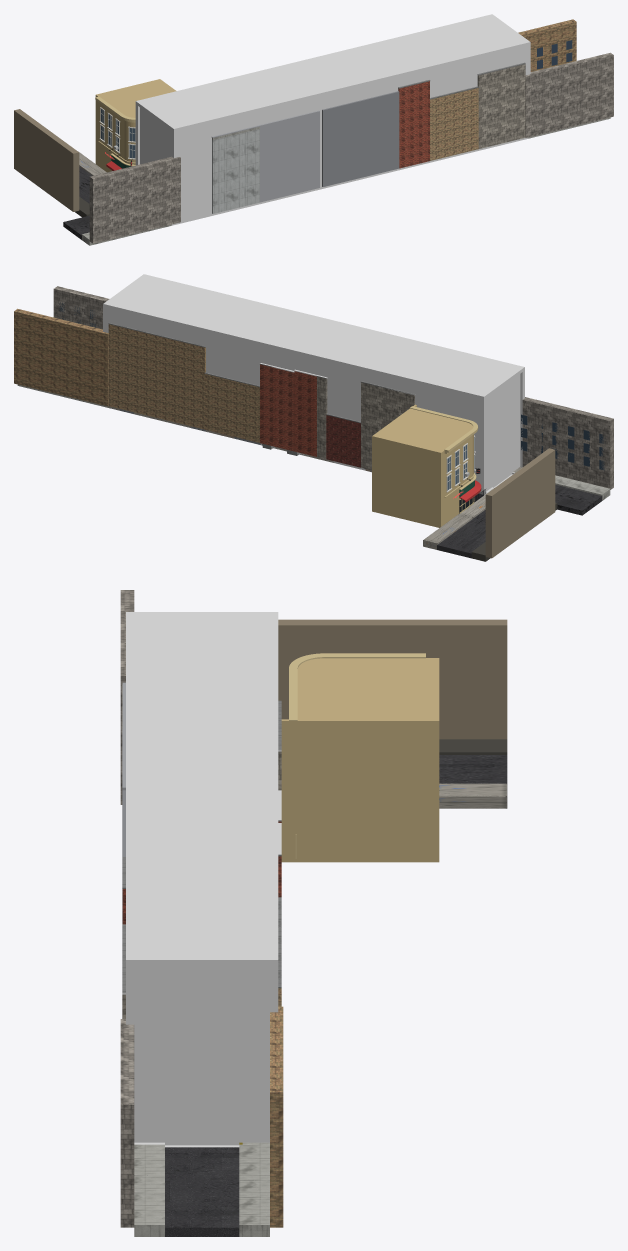
File: room.glb
3 views of the same model, one above another, from view 1: azimuth 30°, elevation 25°; view 2: azimuth 150°, elevation 25°; view 3: azimuth 270°, elevation 25° (orthographic). The views are drawn at different scales.
Visible parts, largest first — view 1: COL_Ceiling, COL_Boundary south, V_Ext facade E south, V_E merged gunmetal -1, V_Ext facade E north, V_E Facade Modern, V_Broome facade W, V_E merged gray stone 0, V_E Facade Vet, V_E Facade Hotel, V_W merged bistro_cream_brick -2, V_E Facade Tenement 90 (+9 smaller); view 2: COL_Ceiling, V_W merged tan brick 0, COL_Boundary north, V_W merged bistro_cream_brick -2, V_Ext facade W north, V_Ext facade E south, V_Broome facade W, COL_Boundary west, V_W Facade House 87, V_W merged gray stone -2, V_W Facade 85, V_Ext facade E north (+8 smaller); view 3: COL_Ceiling, V_W merged bistro_cream_brick -2, COL_Boundary east, V_Broome facade W, V_Ext road north, V_Ext facade E north, V_Ext facade W north, V_Ext sidewalk W north, V_Ext sidewalk E north, V_X merged asphalt -2, V_X merged sidewalk -2, V_W merged bistro_cream_paint -2 (+2 smaller).
Boxes of the visible parts, <box> form: COL_Ceiling: <box>135,14,530,131</box>; COL_Boundary south: <box>171,45,530,220</box>; V_Ext facade E south: <box>89,156,180,243</box>; V_E merged gunmetal -1: <box>322,91,399,186</box>; V_Ext facade E north: <box>525,52,613,137</box>; V_E Facade Modern: <box>259,110,319,202</box>; V_Broome facade W: <box>14,109,79,211</box>; V_E merged gray stone 0: <box>477,64,525,148</box>; V_E Facade Vet: <box>212,129,259,213</box>; V_E Facade Hotel: <box>430,88,478,160</box>; V_W merged bistro_cream_brick -2: <box>95,79,176,172</box>; V_E Facade Tenement 90: <box>398,81,429,168</box>; COL_Ceiling: <box>103,274,524,399</box>; V_W merged tan brick 0: <box>108,324,259,442</box>; COL_Boundary north: <box>103,307,486,495</box>; V_W merged bistro_cream_brick -2: <box>372,404,473,527</box>; V_Ext facade W north: <box>14,308,108,406</box>; V_Ext facade E south: <box>522,397,613,489</box>; V_Broome facade W: <box>485,448,555,558</box>; COL_Boundary west: <box>478,374,520,492</box>; V_W Facade House 87: <box>260,364,294,451</box>; V_W merged gray stone -2: <box>361,382,414,470</box>; V_W Facade 85: <box>294,371,316,456</box>; V_Ext facade E north: <box>53,286,109,329</box>; COL_Ceiling: <box>126,612,278,966</box>; V_W merged bistro_cream_brick -2: <box>281,658,439,862</box>; COL_Boundary east: <box>134,966,269,1145</box>; V_Broome facade W: <box>278,619,507,739</box>; V_Ext road north: <box>165,1147,239,1236</box>; V_Ext facade E north: <box>120,1019,134,1227</box>; V_Ext facade W north: <box>270,1006,283,1227</box>; V_Ext sidewalk W north: <box>239,1142,269,1236</box>; V_Ext sidewalk E north: <box>134,1144,164,1236</box>; V_X merged asphalt -2: <box>439,755,507,783</box>; V_X merged sidewalk -2: <box>439,783,507,808</box>; V_W merged bistro_cream_paint -2: <box>289,653,425,858</box>.
Bounding box in the file's own units: 35.5 × 6.5 × 11.4.
Materials: 120 (26 with a texture image).
